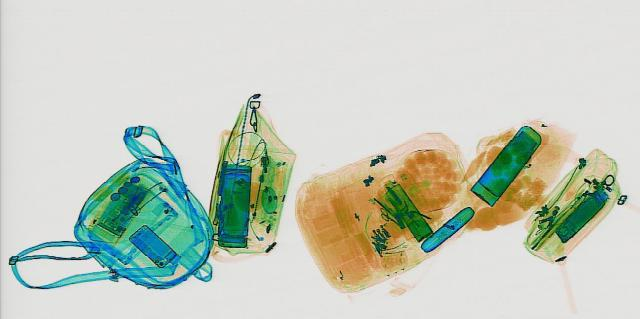Scissors: (372, 207, 406, 226)
